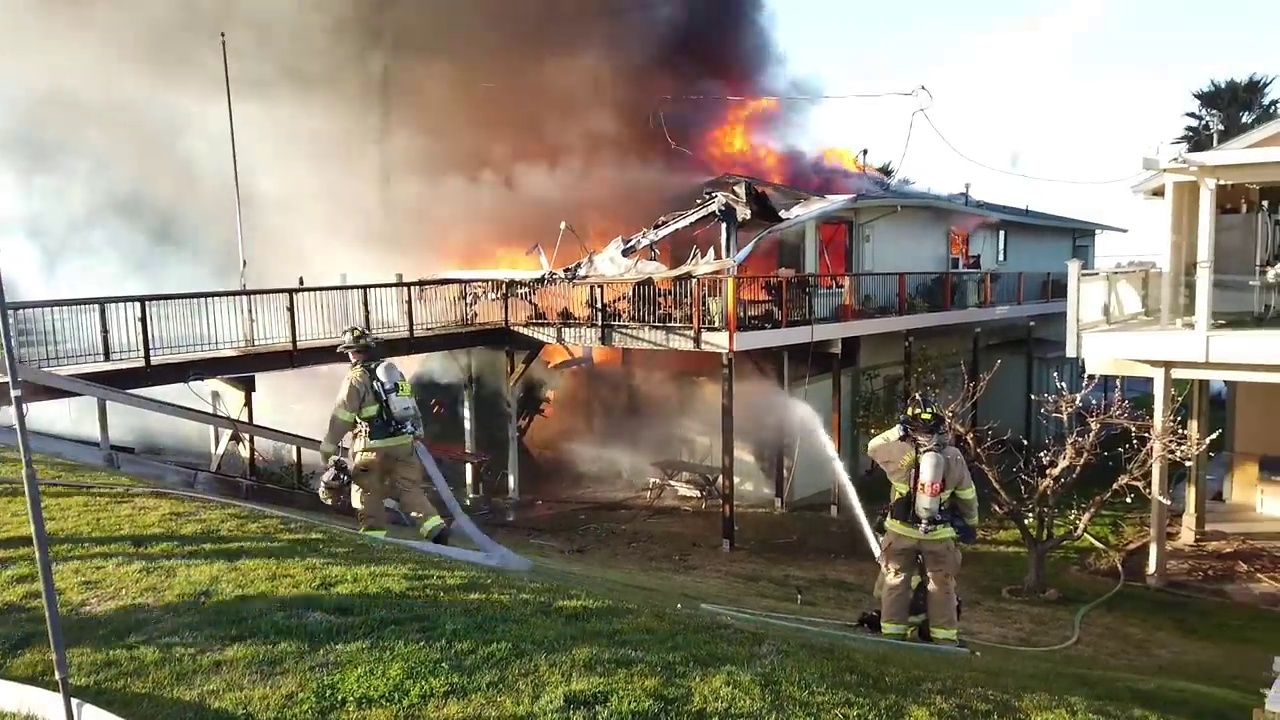fire: (467, 219, 672, 309), (701, 90, 786, 180), (811, 130, 872, 182), (819, 222, 849, 273), (541, 336, 573, 365), (948, 229, 969, 258)
smoke: (1, 1, 703, 301), (537, 333, 780, 527), (633, 1, 791, 114), (398, 343, 513, 403), (253, 370, 331, 440), (126, 407, 211, 469), (148, 385, 251, 422)
